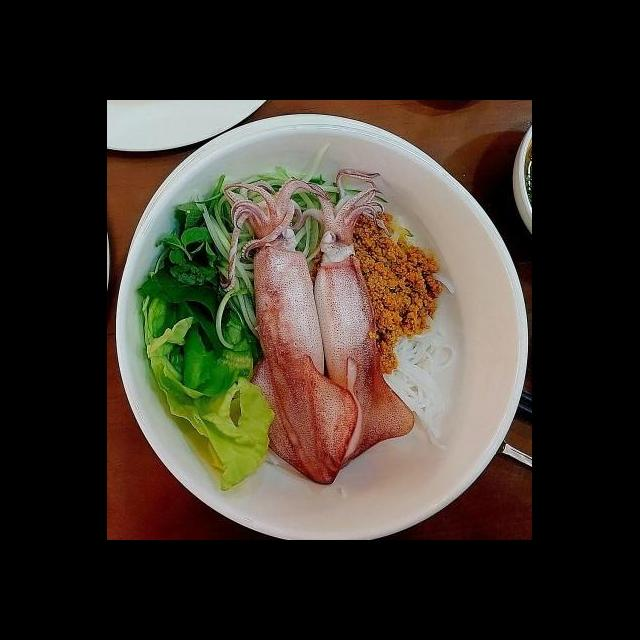bun: (381, 274, 462, 457)
muc: (212, 175, 362, 488), (284, 164, 418, 472)
